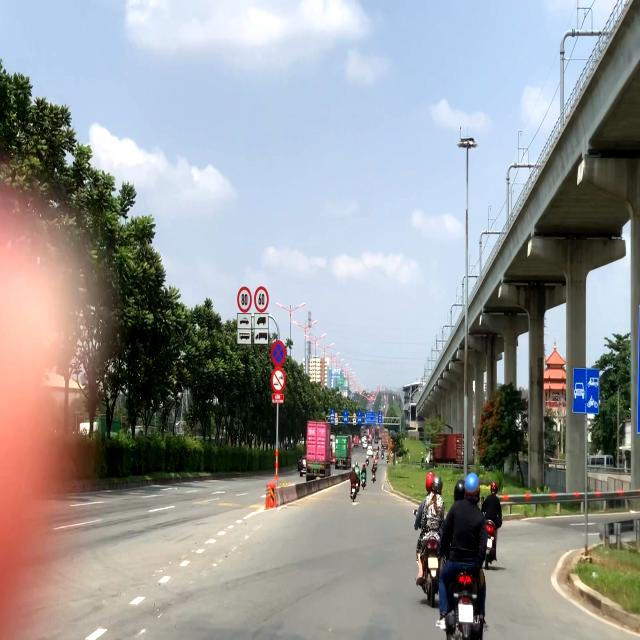P.127: (254, 285, 269, 312), (238, 286, 252, 311)
P.130: (270, 339, 286, 366)
